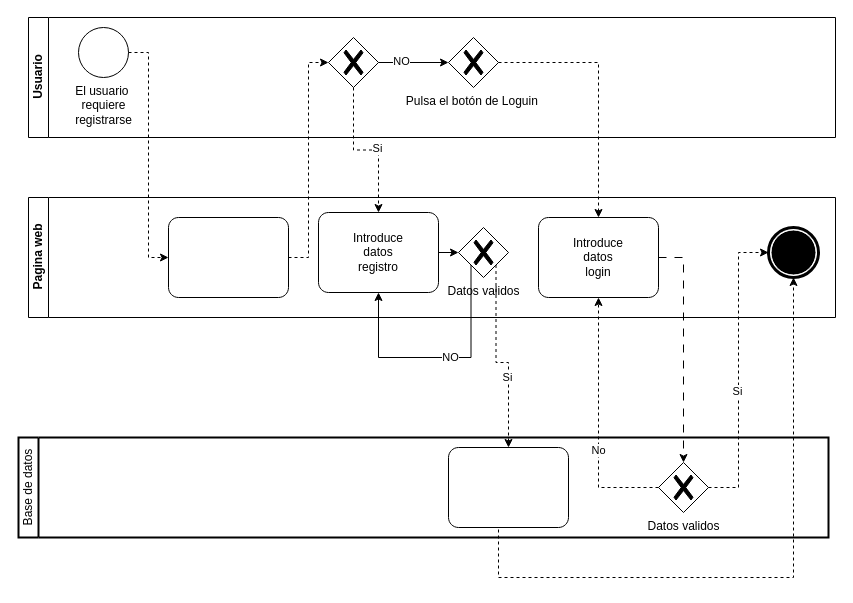
This 853x603 diagram has some shape labels left out. The centre of each missing label's shape, as x and y in pixels:
"Datos añadidos" belongs at (x=508, y=487).
"El usuario pulsa el botón de Loguin/Registro" belongs at (x=228, y=257).
"Pulsa el botón de registro" belongs at (x=353, y=62).
"Sesión iniciada" belongs at (x=793, y=252).
